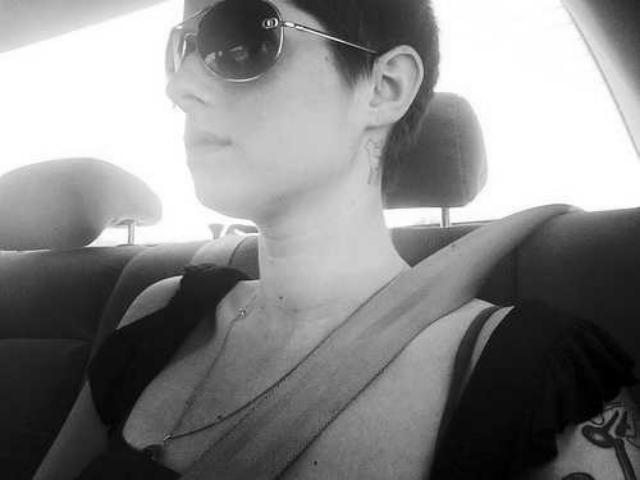Seatbelt: (178, 202, 566, 480)
